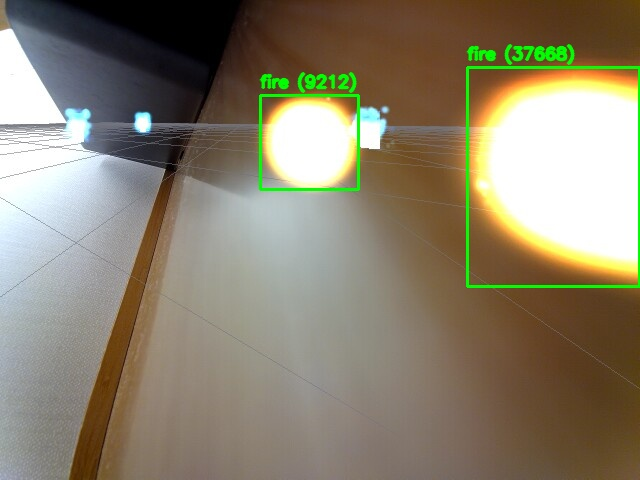fire: (467, 67, 639, 286), (260, 95, 358, 189)
